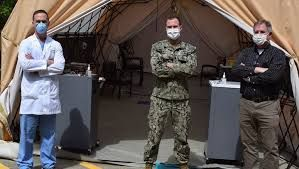uniform: (149, 37, 194, 160)
